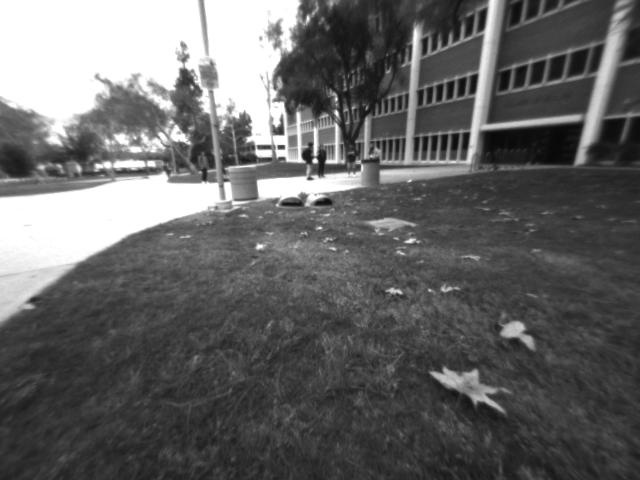trashcan: (228, 166, 261, 206), (360, 158, 382, 191)
